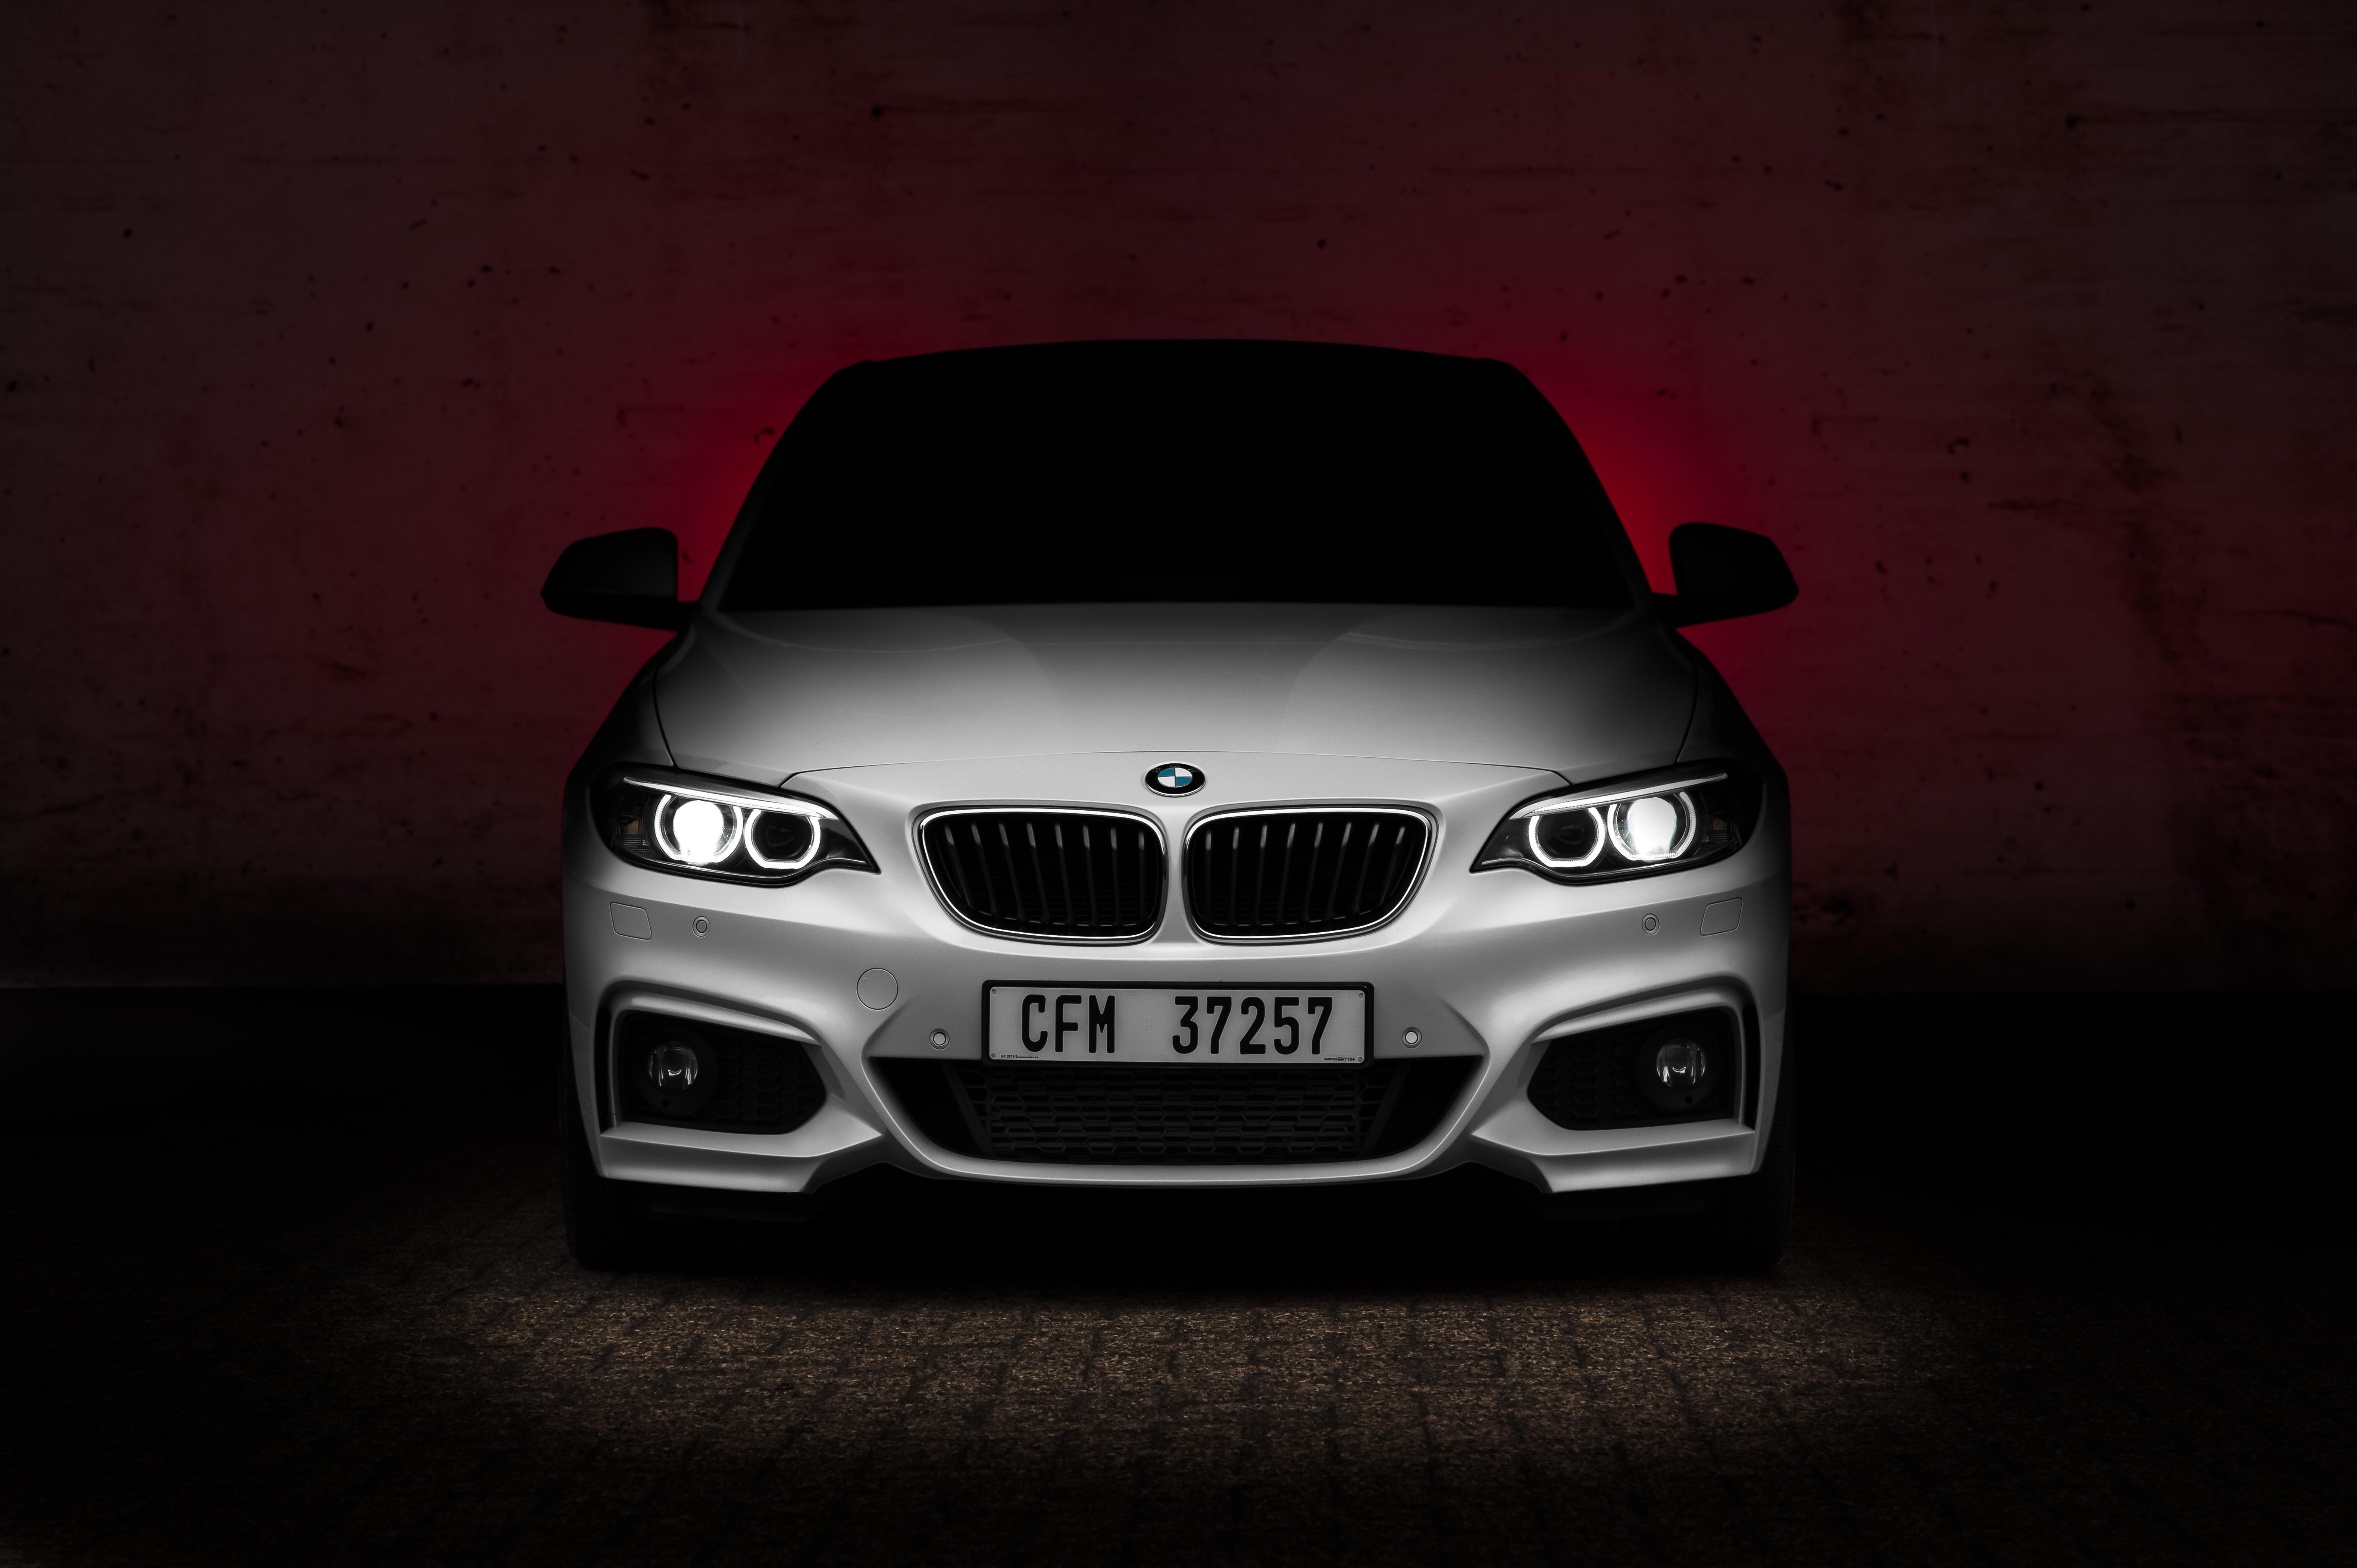bmw: (1141, 749, 1211, 812)
